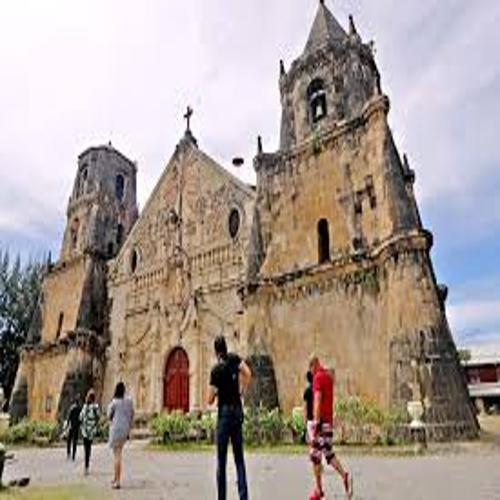Miagao Church: (14, 1, 474, 458)
